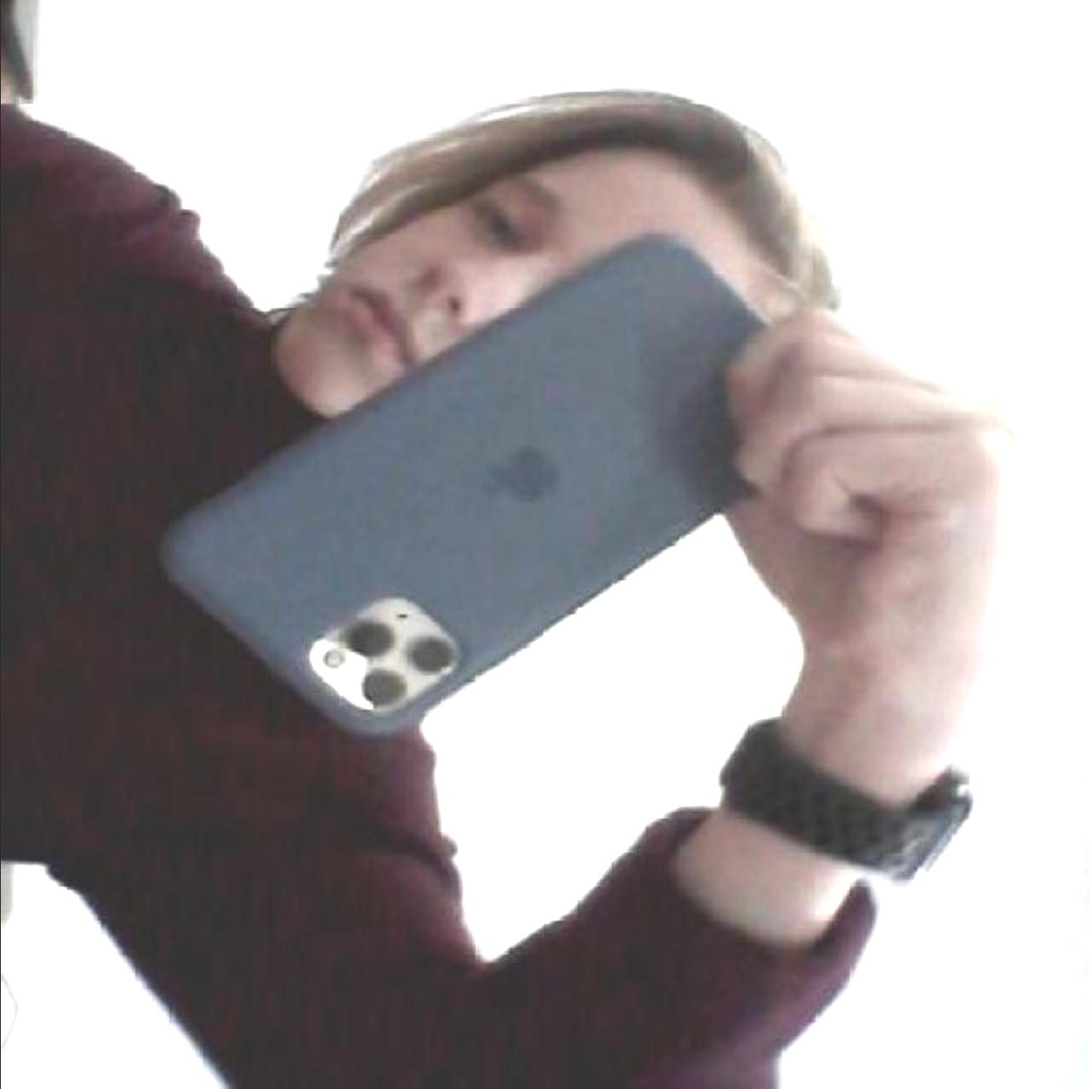phone: (149, 225, 835, 737)
